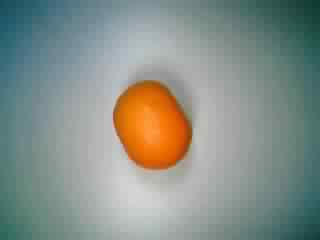orange: (110, 77, 196, 172)
